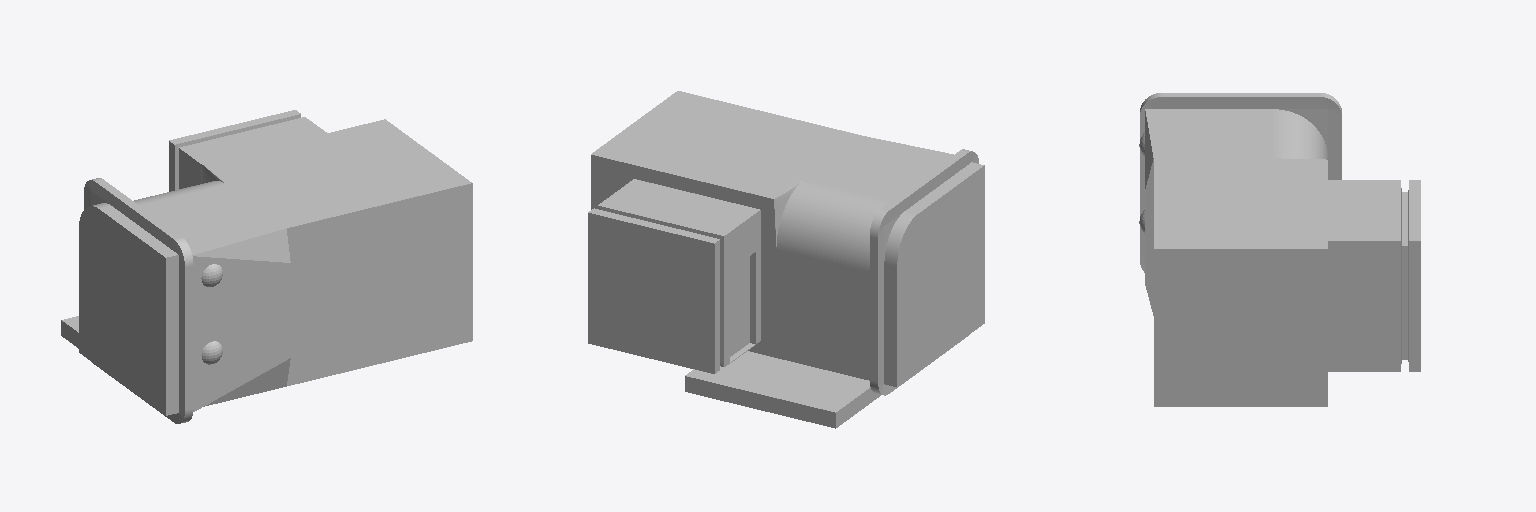
Rendered from simple_celle_unwrapped.obj.
The picture shows the model from 3 angles: view 1: azimuth 30°, elevation 25°; view 2: azimuth 150°, elevation 25°; view 3: azimuth 270°, elevation 25°; orthographic projection.
Visible parts, largest first — view 1: Cube_Cube.001; view 2: Cube_Cube.001; view 3: Cube_Cube.001.
Boxes of the visible parts, x1=… form: Cube_Cube.001: x1=61, y1=110, x2=472, y2=423; Cube_Cube.001: x1=588, y1=91, x2=984, y2=428; Cube_Cube.001: x1=1139, y1=93, x2=1420, y2=406.
Size of the model in its own units: 4.06 by 2.38 by 3.22.